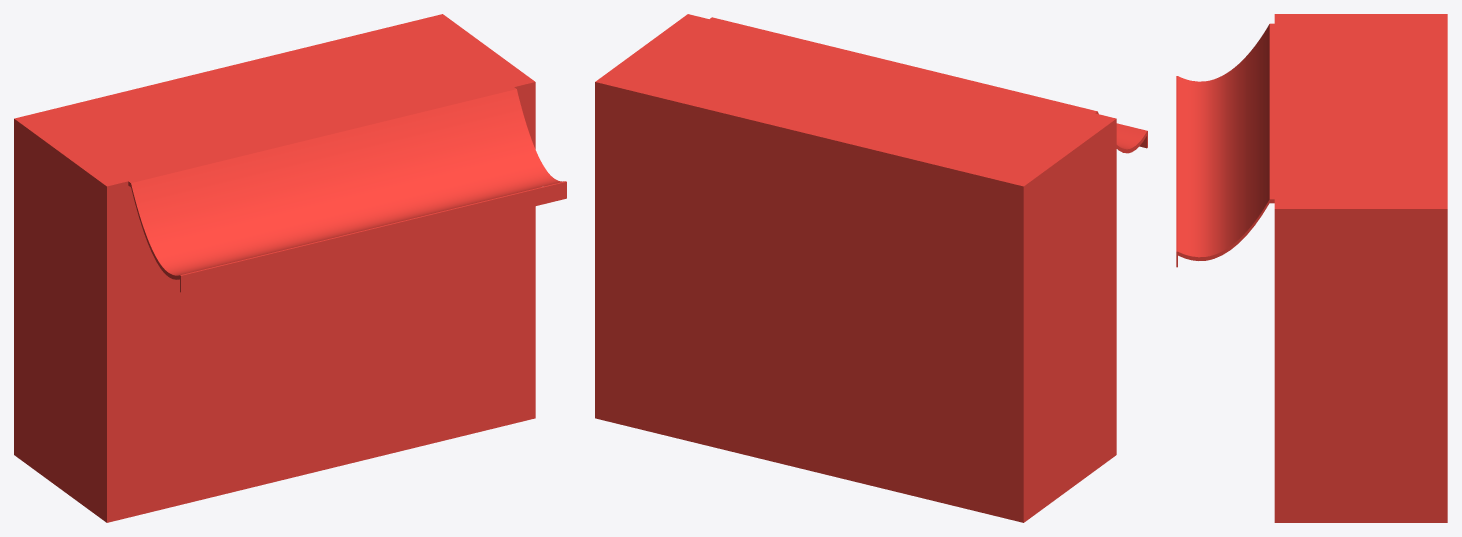
3 renders of one model, left to right at view 1: azimuth 30°, elevation 25°; view 2: azimuth 150°, elevation 25°; view 3: azimuth 270°, elevation 25°, orthographic. The views are drawn at different scales.
Visible parts, largest first — view 1: Mesh_1, Mesh_0, Mesh_2; view 2: Mesh_1, Mesh_0; view 3: Mesh_1, Mesh_0, Mesh_2.
Part boxes in pixels (bbox=[...]): Mesh_1: bbox=[14, 14, 535, 522]; Mesh_0: bbox=[128, 87, 563, 279]; Mesh_2: bbox=[180, 181, 566, 292]; Mesh_1: bbox=[595, 14, 1116, 522]; Mesh_0: bbox=[709, 17, 1146, 153]; Mesh_1: bbox=[1274, 14, 1447, 522]; Mesh_0: bbox=[1178, 23, 1274, 260]; Mesh_2: bbox=[1176, 76, 1177, 267].
Bounding box in the file's own units: 4 × 3 × 2.35.
